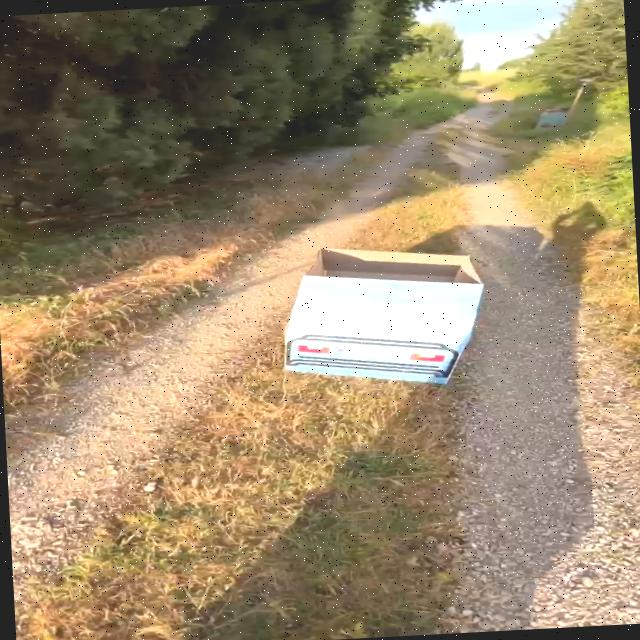blue_car: (242, 225, 518, 404)
